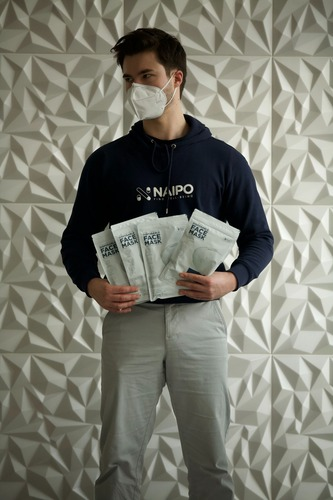with_mask: (123, 58, 169, 119)
